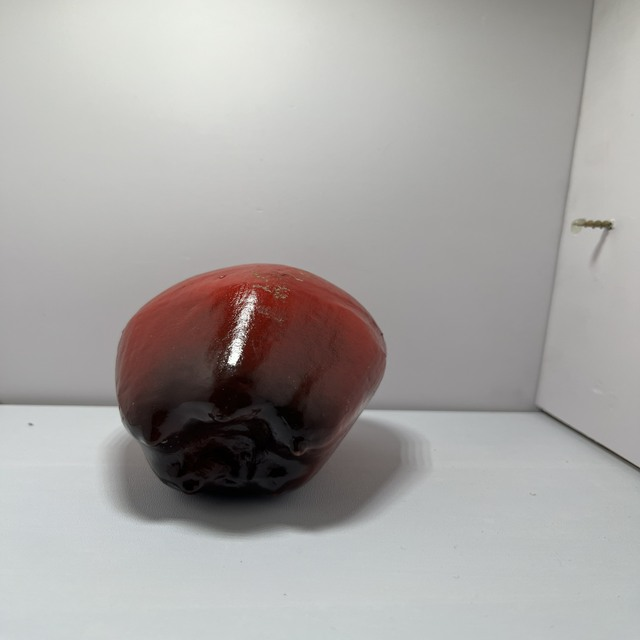Tao: (109, 252, 385, 510)
